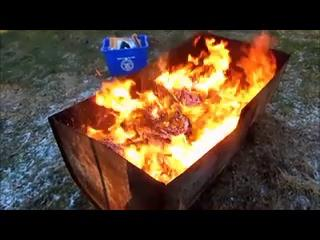fire: (96, 31, 273, 184)
